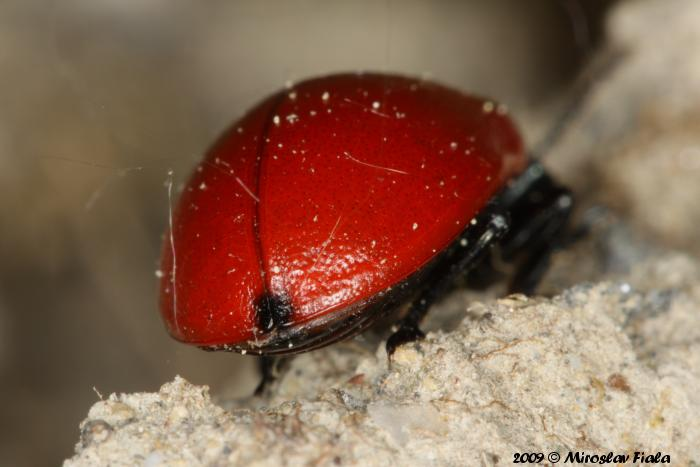Chrysomela_populi: (149, 59, 592, 361)
